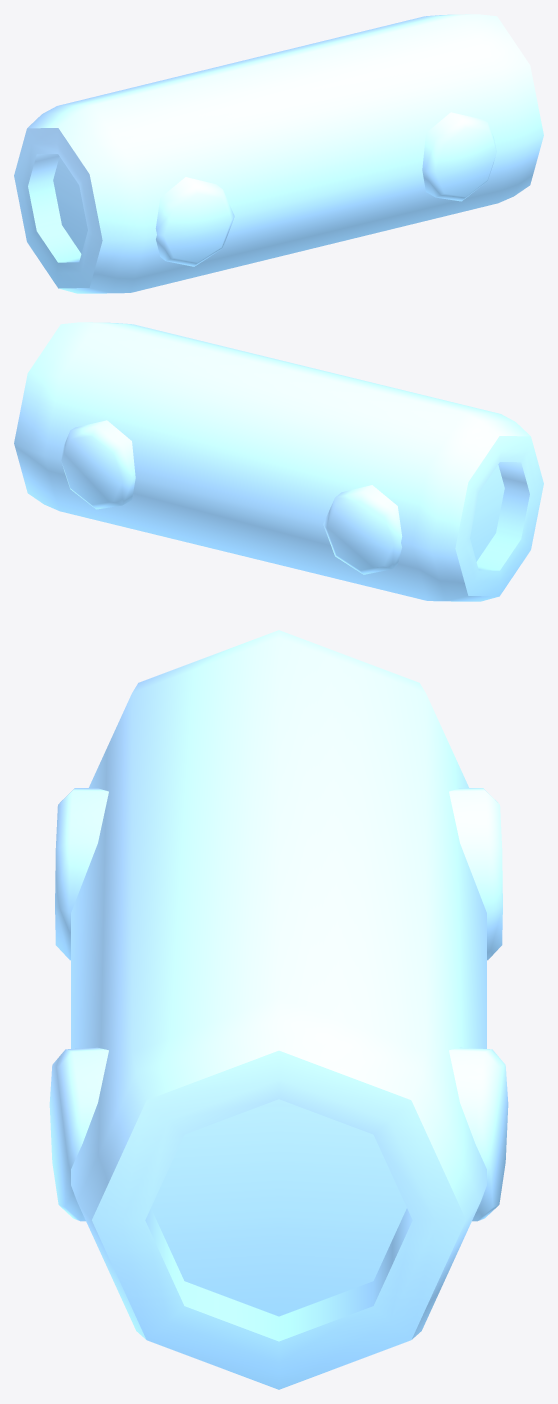
The model's file is steel_guard_042.glb.
3 views of the same model, one above another, from view 1: azimuth 30°, elevation 25°; view 2: azimuth 150°, elevation 25°; view 3: azimuth 270°, elevation 25° (orthographic). The views are drawn at different scales.
Visible parts, largest first — view 1: steel_guard_042; view 2: steel_guard_042; view 3: steel_guard_042.
Boxes of the visible parts, x1,y1,x2,y2 form: steel_guard_042: (14,14,543,293); steel_guard_042: (14,322,543,601); steel_guard_042: (49,630,508,1389).
Size of the model in its own units: 4.9 by 2 by 2.21.
1 material, 1 textured.
